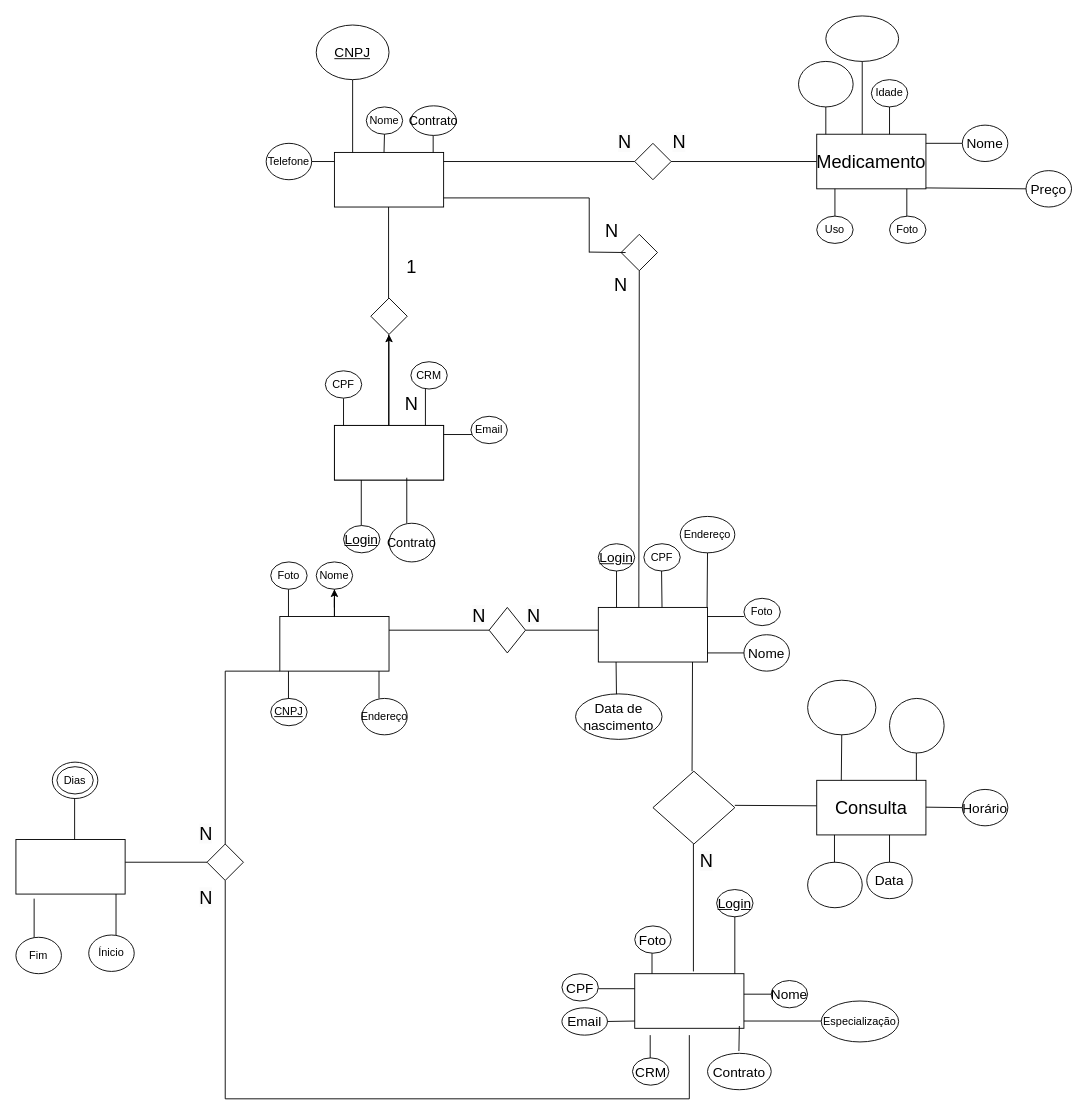
Image size: 1087x1116. Some labels were removed from this diagram. Each missing label, with the centre of its shape:
"Atestado" goes at point (834, 884).
"Clinica" goes at point (334, 643).
"Expediente" goes at point (70, 866).
"Farmaceutico" goes at point (389, 452).
"Farmacia" goes at point (389, 179).
"Histórico" goes at point (916, 725).
"Médico" goes at point (689, 1000).
"Número CAS" goes at point (825, 84).
"Número da consulta" goes at point (841, 707).
"Paciente" goes at point (652, 634).
"Quantidade" goes at point (862, 38).
